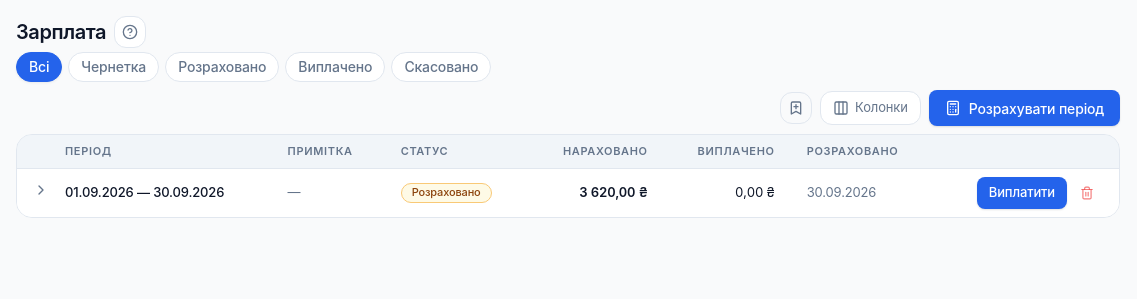
Test: Payroll — розшифровка по нарядах (drill-down) › умов немає (null) — лише назва схеми
The width and height of the screenshot is (1137, 299).
Click the button named "Розгорнути".
click(41, 190)  # box [33,182,49,198]
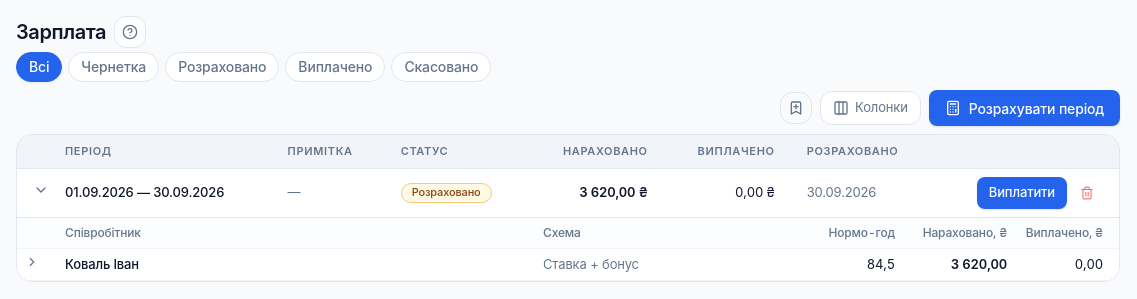
Check: the text "Ставка + бонус" is shown, box [543,256,639,272]
